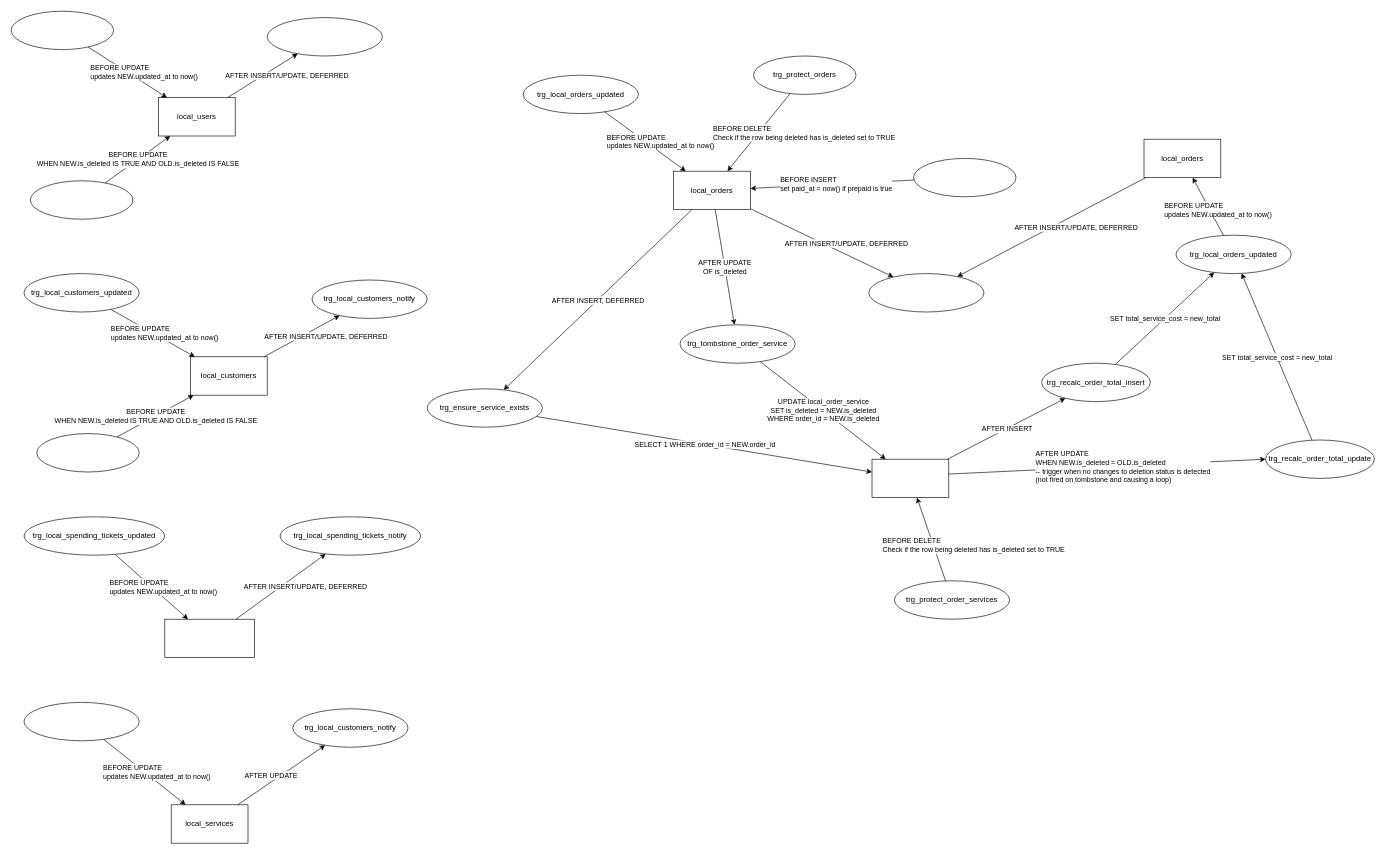
Image size: 1386x854. Some labels were removed from this diagram. Here are the shapes that lost their labels. From the top down, the centre of each, then its label:
At point (62, 30): "trg_local_users_updated".
At point (324, 36): "trg_local_users_notify".
At point (964, 177): "trg_set_paid_at_prepaid".
At point (81, 199): "trg_user_soft_deleted".
At point (926, 292): "trg_local_orders_notify".
At point (87, 452): "trg_customer_soft_deleted".
At point (910, 478): "local_order_service".
At point (209, 638): "local_spending_tickets".
At point (81, 721): "trg_local_services_updated".
